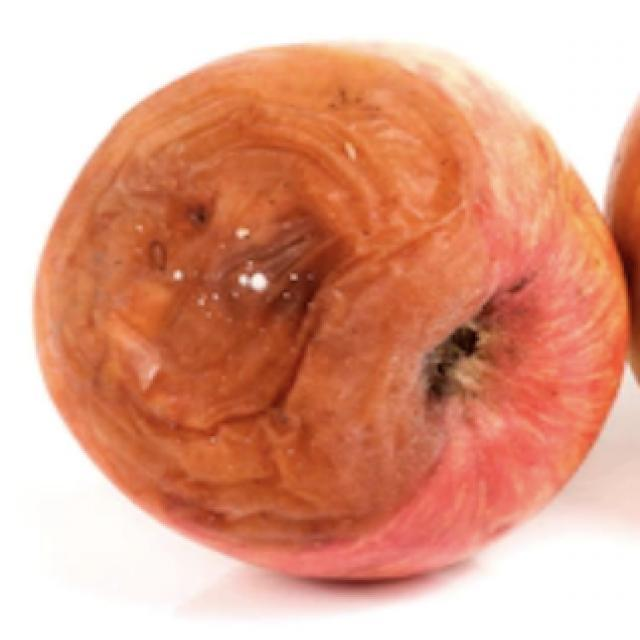Rotten: (98, 52, 612, 563)
